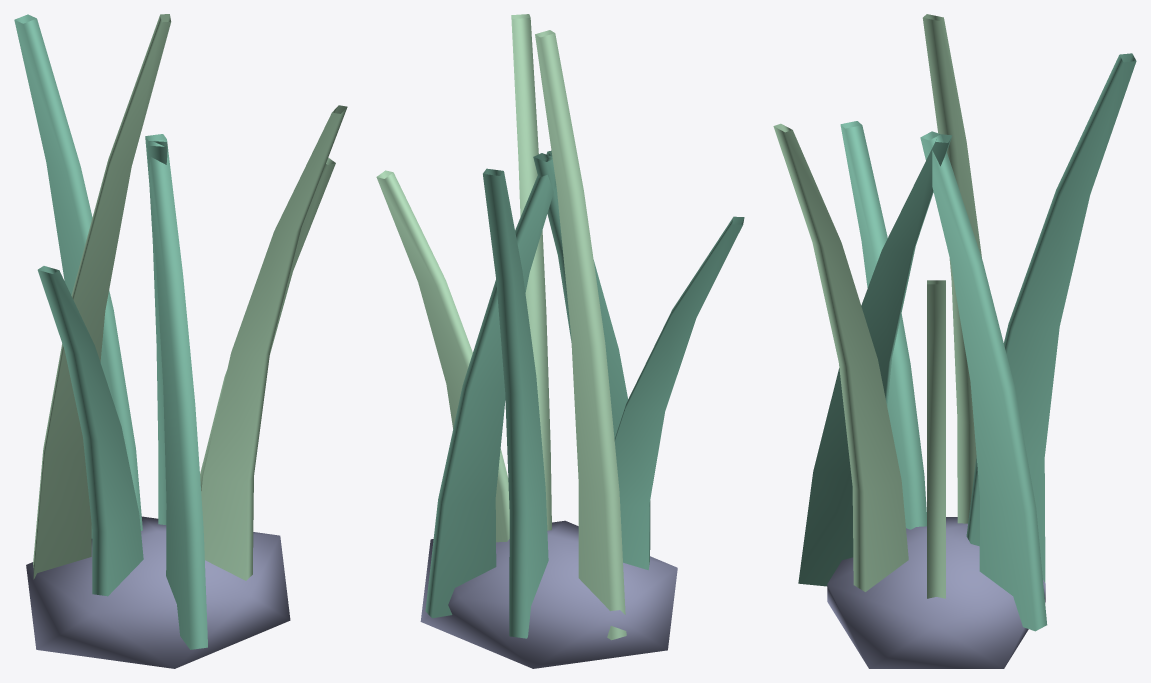
Rendered from seagrass_0.glb.
The picture shows the model from 3 angles, left to right: view 1: azimuth 30°, elevation 25°; view 2: azimuth 150°, elevation 25°; view 3: azimuth 270°, elevation 25°; orthographic projection. The views are drawn at different scales.
Visible parts, largest first — view 1: SeagrassPass35_0Mesh; view 2: SeagrassPass35_0Mesh; view 3: SeagrassPass35_0Mesh.
Boxes of the visible parts, x1,y1,x2,y2 form: SeagrassPass35_0Mesh: (14,14,347,668); SeagrassPass35_0Mesh: (376,14,744,668); SeagrassPass35_0Mesh: (773,14,1136,668).
Size of the model in its own units: 1.03 by 1.87 by 0.9618.
